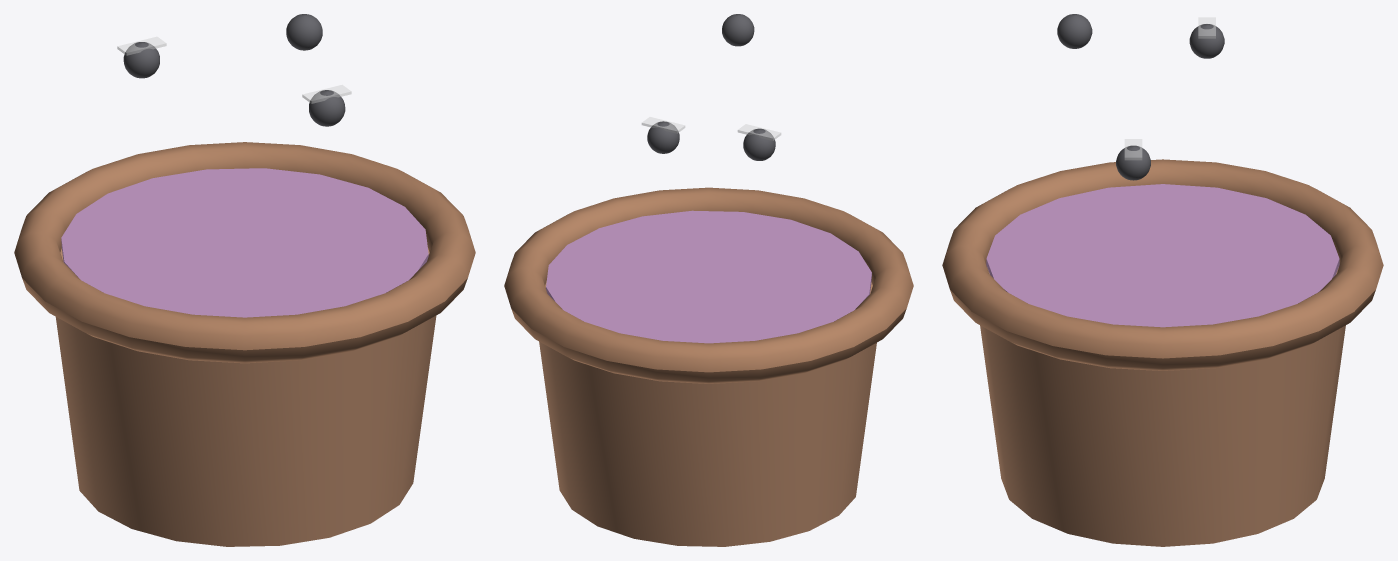
Rendered from mam_tom.glb.
3 renders of one model, left to right at view 1: azimuth 30°, elevation 25°; view 2: azimuth 150°, elevation 25°; view 3: azimuth 270°, elevation 25°, orthographic. The views are drawn at different scales.
Parts seen in each view (by area): view 1: Cyl1, Cyl2, Tor1, Sph3, Sph2, Sph1; view 2: Cyl1, Cyl2, Tor1, Sph1, Sph3, Sph2; view 3: Cyl1, Cyl2, Tor1, Sph3, Sph2, Sph1.
Part boxes in pixels (x1,y1,x2,y2): Cyl1: (55, 247, 436, 546); Cyl2: (61, 168, 428, 317); Tor1: (14, 142, 475, 363); Sph3: (286, 14, 322, 50); Sph2: (123, 42, 159, 78); Sph1: (309, 90, 345, 126); Cyl1: (539, 281, 876, 546); Cyl2: (546, 210, 871, 343); Tor1: (504, 187, 913, 383); Sph1: (647, 121, 679, 153); Sph3: (722, 14, 754, 46); Sph2: (743, 128, 775, 160); Cyl1: (980, 267, 1345, 546); Cyl2: (986, 184, 1339, 327); Tor1: (942, 159, 1383, 370); Sph3: (1057, 14, 1092, 48); Sph2: (1189, 24, 1224, 58); Sph1: (1116, 145, 1150, 180).
Size of the model in its own units: 0.3 by 0.352 by 0.3.
